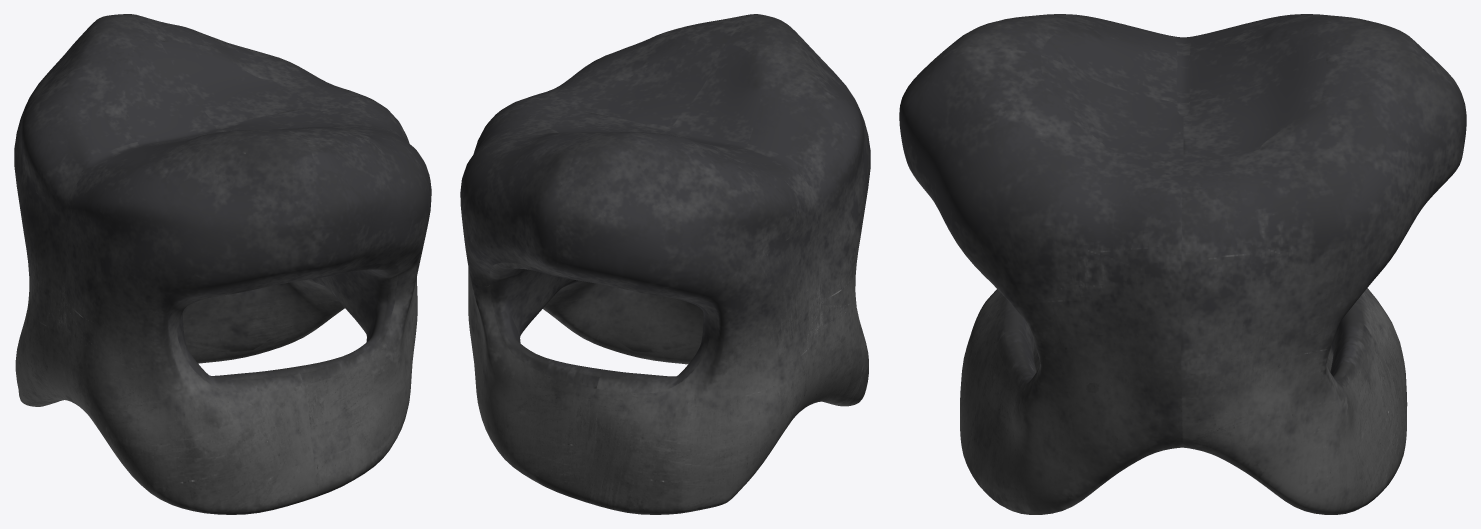
The model's file is bot_part_08.gltf.
3 views of the same model, side by side, from view 1: azimuth 30°, elevation 25°; view 2: azimuth 150°, elevation 25°; view 3: azimuth 270°, elevation 25° (orthographic). The views are drawn at different scales.
Parts seen in each view (by area): view 1: bot_part_08; view 2: bot_part_08; view 3: bot_part_08.
Boxes of the visible parts, box(x1,y1,x2,y2) form: bot_part_08: box(14, 14, 431, 514); bot_part_08: box(460, 14, 870, 514); bot_part_08: box(899, 14, 1466, 514).
Bounding box in the file's own units: 1.59 × 1.56 × 1.89.
Materials: 1 (1 with a texture image).
